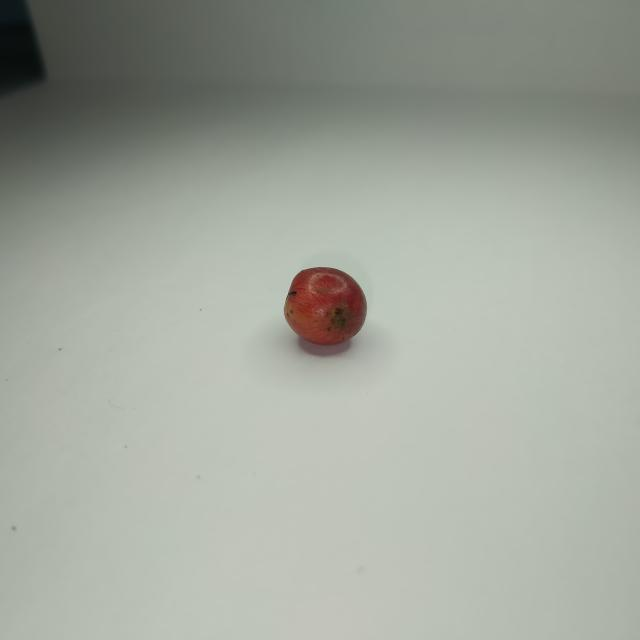Infectado: (284, 268, 366, 349)
